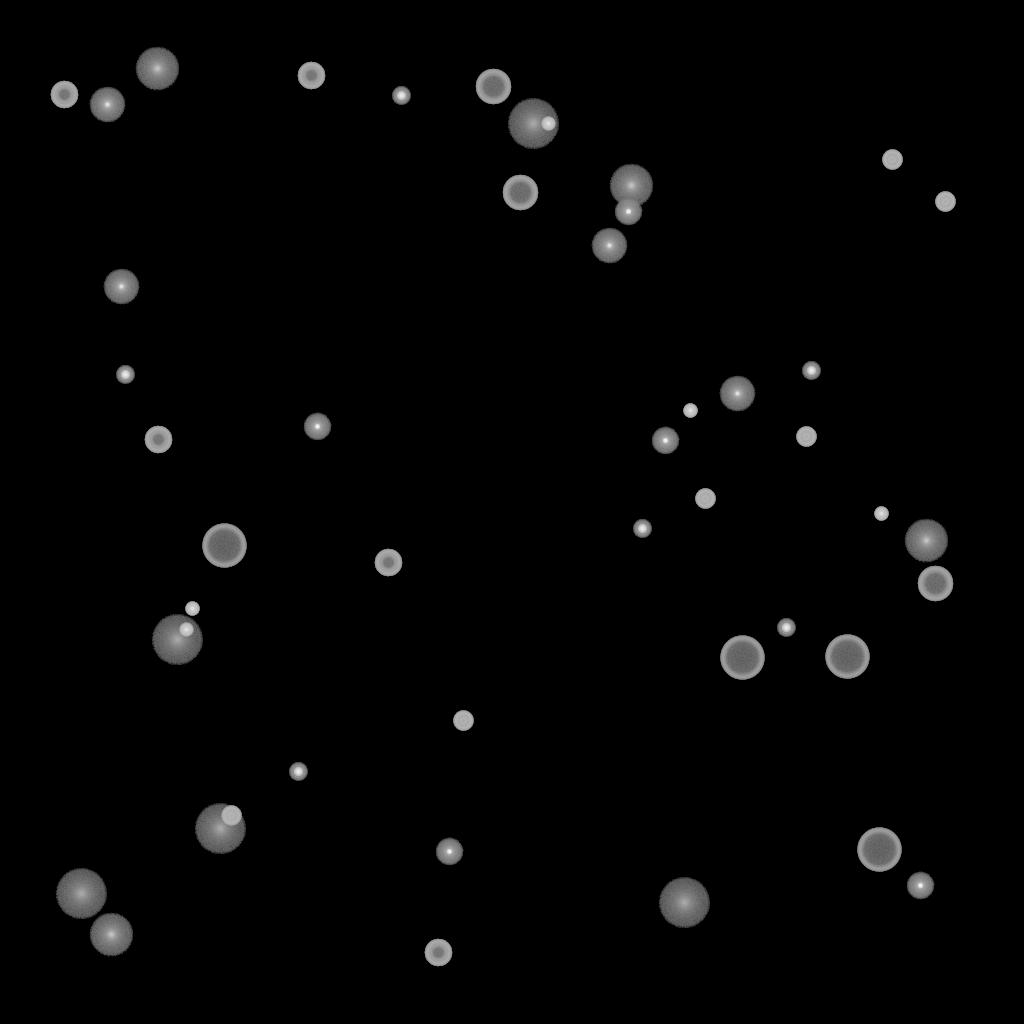depth:-10: (651, 427, 679, 455), (614, 198, 642, 226), (303, 413, 331, 441), (435, 838, 463, 866), (906, 872, 934, 900)
depth:-20: (802, 362, 820, 380), (392, 87, 410, 105), (633, 520, 651, 538), (116, 366, 134, 384), (777, 619, 795, 637), (289, 763, 307, 781)
depth:-30: (185, 602, 199, 616), (541, 117, 555, 131), (683, 404, 697, 418), (179, 623, 193, 637), (874, 507, 888, 521)
depth:-40: (796, 427, 816, 447), (882, 150, 902, 170), (221, 806, 241, 826), (935, 192, 955, 212), (695, 489, 715, 509), (453, 711, 473, 731)
depth:-50: (424, 939, 452, 967), (374, 549, 402, 577), (50, 81, 78, 109), (144, 426, 172, 454), (297, 62, 325, 90)
depth:-60: (475, 69, 511, 105), (502, 175, 538, 211), (917, 566, 953, 602)
depth:-70: (202, 524, 246, 568), (720, 636, 764, 680), (825, 635, 869, 679), (857, 828, 901, 872)
depth:0: (591, 228, 627, 264), (103, 269, 139, 305), (89, 87, 125, 123), (719, 376, 755, 412)
depth:10: (609, 164, 653, 208), (89, 913, 133, 957), (135, 47, 179, 91), (904, 519, 948, 563)
depth:20: (151, 615, 203, 665), (658, 878, 710, 928), (194, 804, 246, 854), (55, 869, 107, 919), (507, 99, 559, 149)
